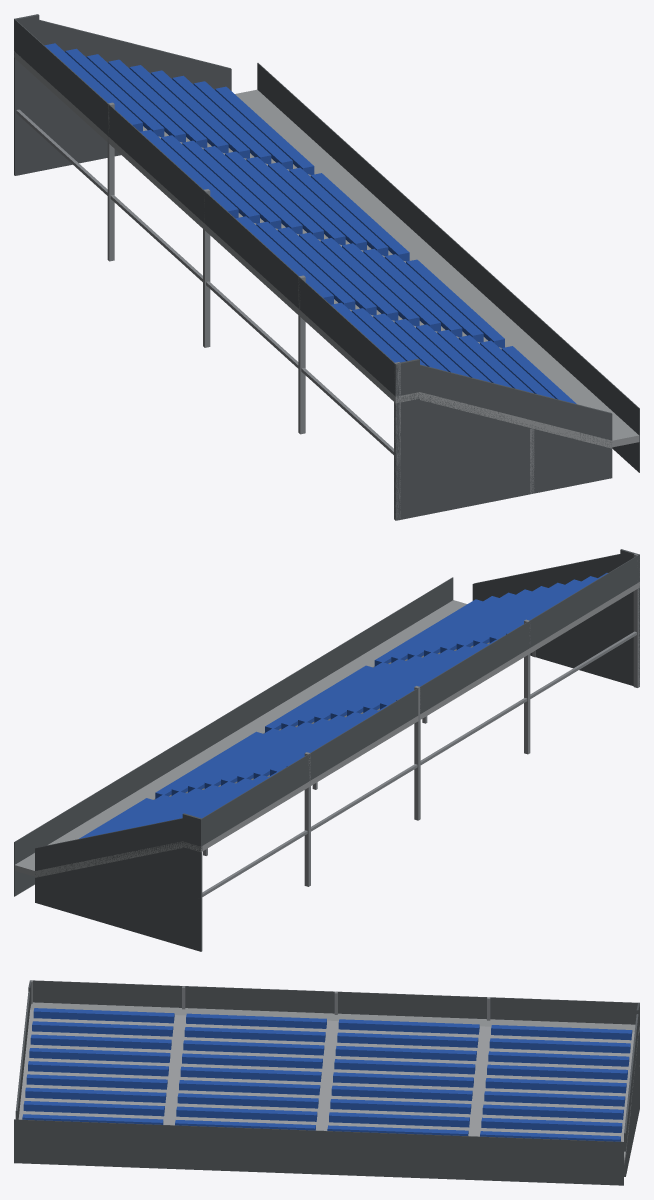
Rendered from mza_stand_uscita_ascari_b.glb.
The picture shows the model from 3 angles, top to bottom: view 1: azimuth 30°, elevation 25°; view 2: azimuth 150°, elevation 25°; view 3: azimuth 270°, elevation 25°; orthographic projection. The views are drawn at different scales.
Visible parts, largest first — view 1: monza-uscita-ascari-b; view 2: monza-uscita-ascari-b; view 3: monza-uscita-ascari-b.
Boxes of the visible parts, x1=… form: monza-uscita-ascari-b: x1=14, y1=14, x2=639, y2=520; monza-uscita-ascari-b: x1=14, y1=549, x2=639, y2=951; monza-uscita-ascari-b: x1=14, y1=980, x2=639, y2=1185.
Size of the model in its own units: 11.76 by 5.84 by 31.27.
